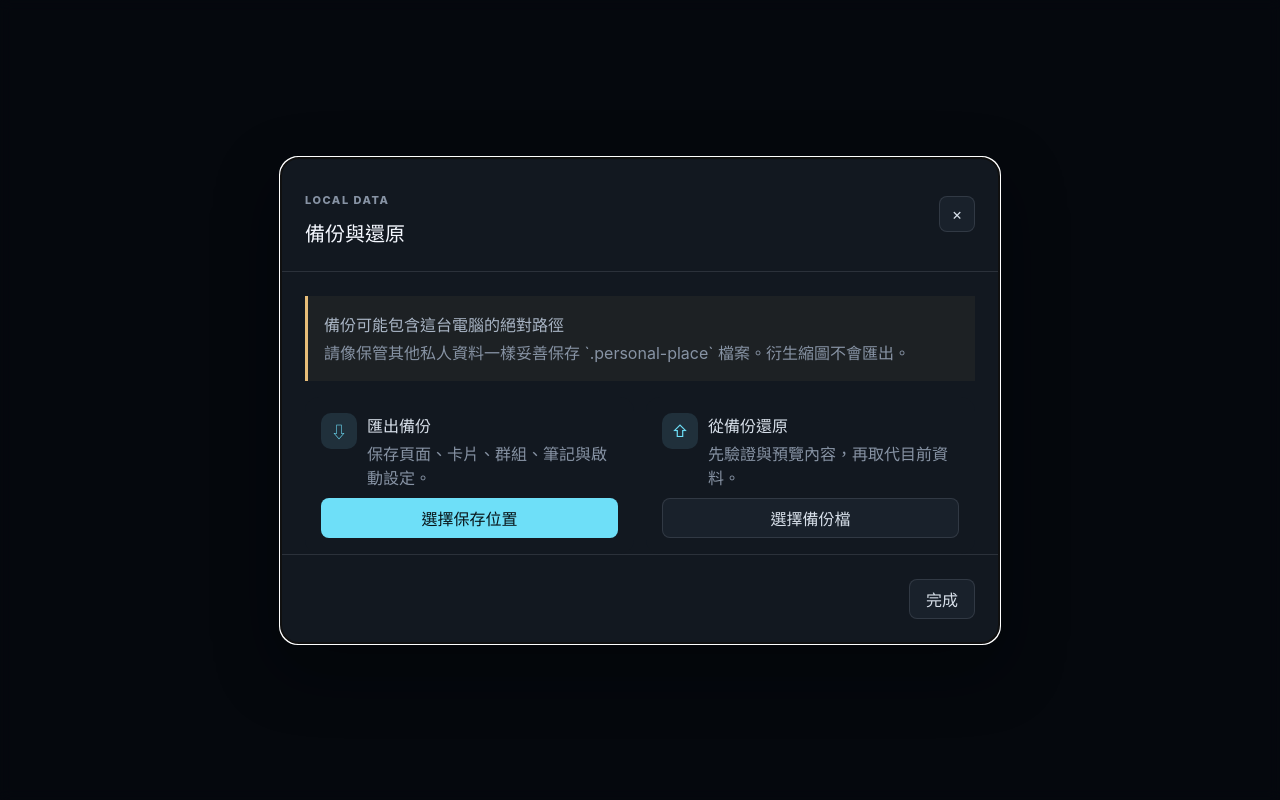
Test case: BackupDialog › 匯出時補上副檔名並顯示持久結果
Click the button "選擇保存位置". click: [470, 518]
box: [321, 498, 618, 538]
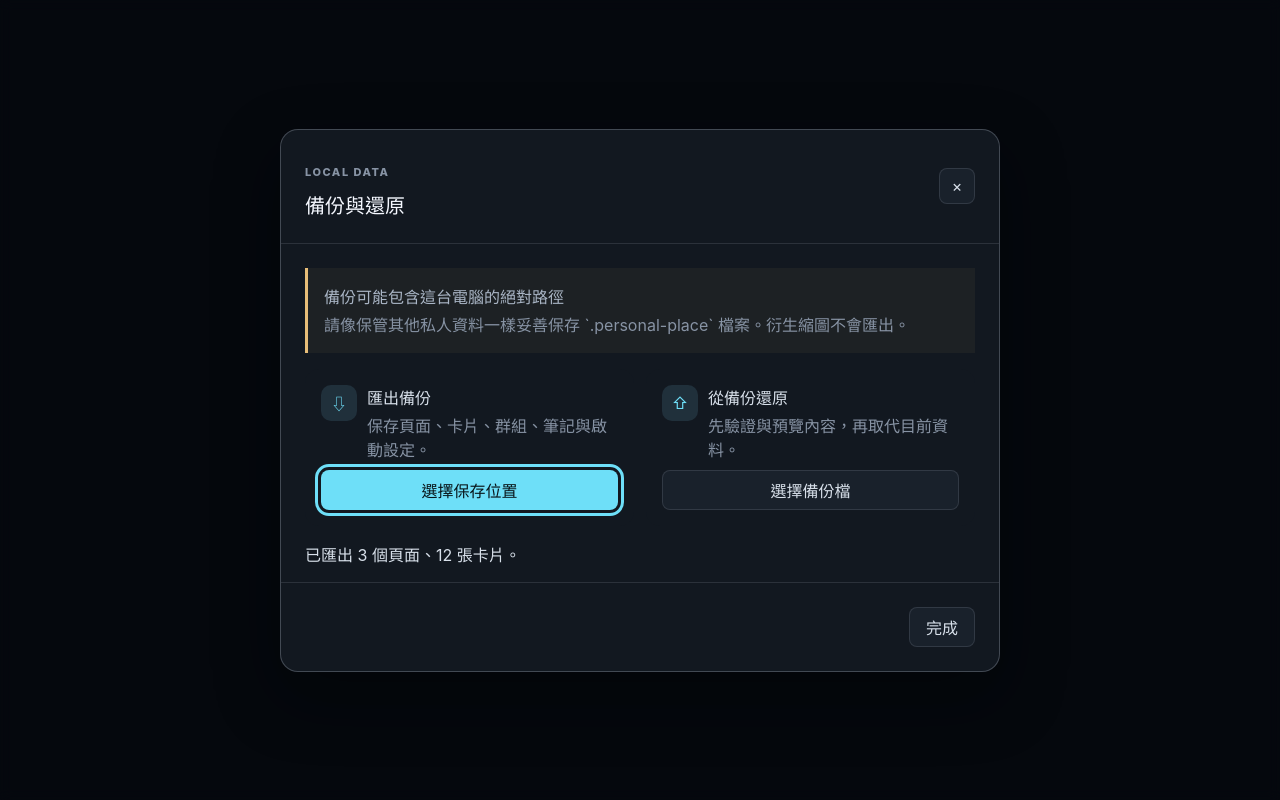
expect the message shows "3 個頁面": met, box [305, 544, 521, 564]
